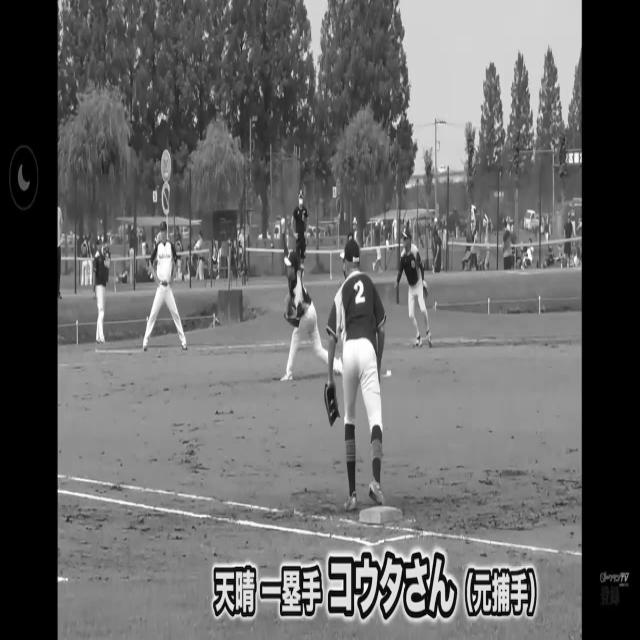base: (360, 504, 401, 526)
baseball: (281, 218, 286, 228)
baseball_glove: (324, 379, 341, 425), (283, 295, 292, 324)
shoe: (371, 478, 384, 507), (345, 493, 358, 511), (281, 371, 293, 382)
